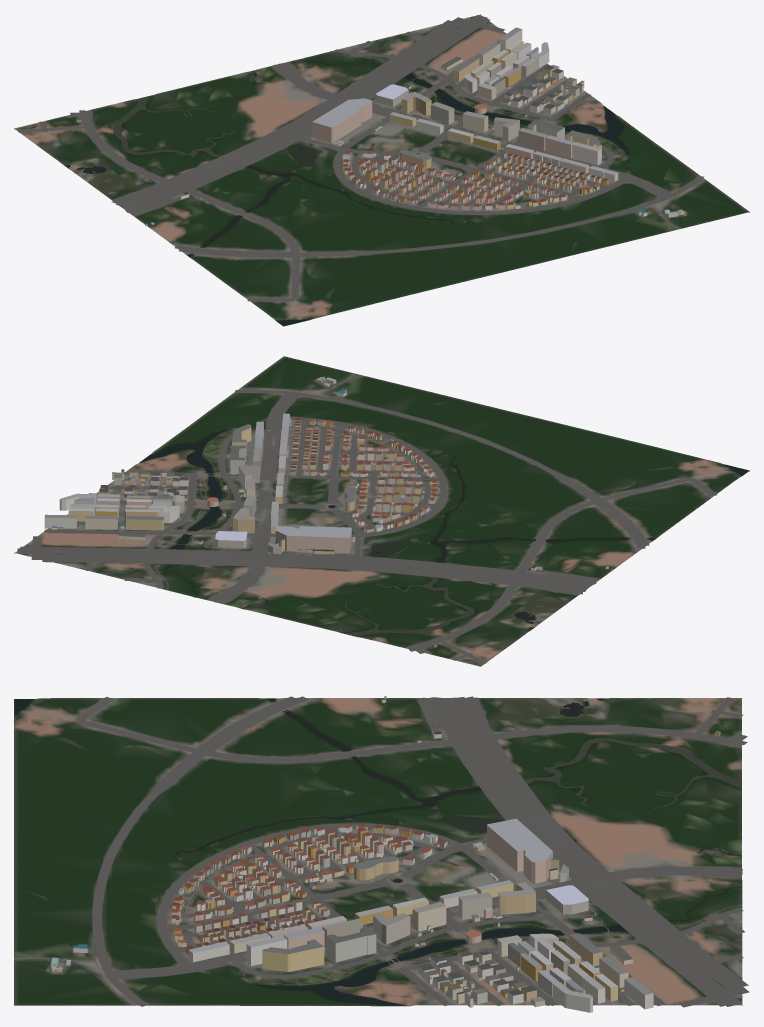
3 views of the same model, one above another, from view 1: azimuth 30°, elevation 25°; view 2: azimuth 150°, elevation 25°; view 3: azimuth 270°, elevation 25° (orthographic). The views are drawn at different scales.
Parts seen in each view (by area): view 1: ground, buildings, roads, water; view 2: ground, roads, buildings, water; view 3: ground, roads, buildings, water.
Part boxes in pixels (x1,y1,x2,y2): ground: (14, 15, 749, 326); buildings: (76, 27, 686, 259); roads: (17, 14, 704, 301); water: (66, 59, 629, 325); ground: (14, 356, 749, 666); roads: (14, 373, 716, 665); buildings: (44, 376, 616, 647); water: (139, 429, 748, 635); ground: (14, 698, 742, 1006); roads: (14, 696, 749, 1007); buildings: (46, 696, 720, 1012); water: (14, 698, 741, 1005).
Size of the model in its own units: 1440 by 49.81 by 1416.
